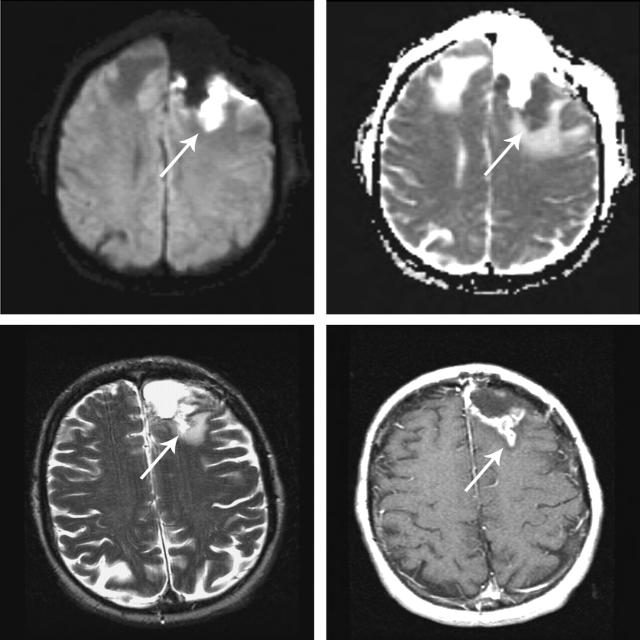Tumor: (503, 73, 567, 139), (428, 52, 487, 114), (470, 388, 528, 442), (194, 78, 254, 130), (152, 381, 202, 439)
